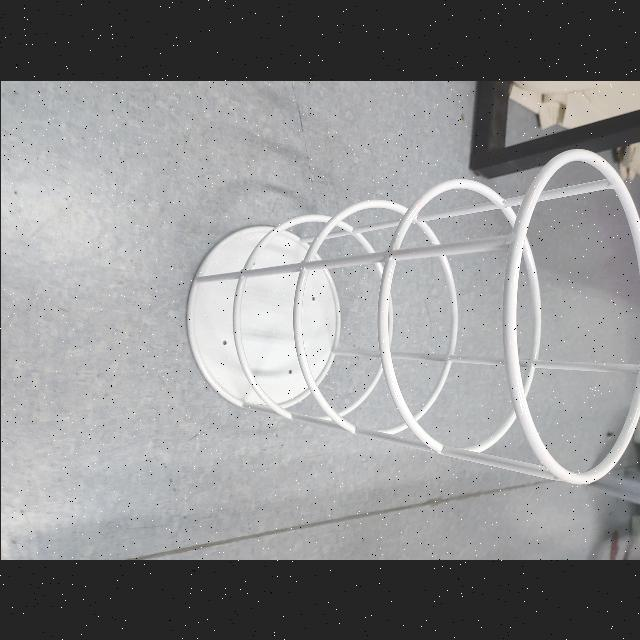S: (176, 138, 640, 490)
